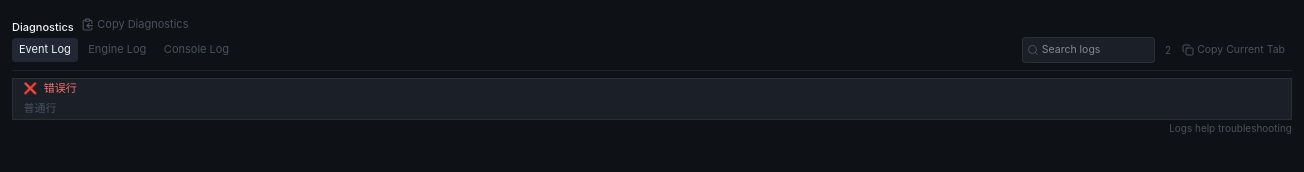
Scenario: DiagnosticsModal 组件 › 复制当前标签页按钮 → execCommand copy + 状态提示
标签页栏「复制当前标签页」按钮（Copy 图标 + 文字；header 只留复制诊断信息主按钮）
Step 1. Click the button with class "diag-tab-btn--copy" → coordinates (1233, 50), box [1175, 38, 1292, 62]
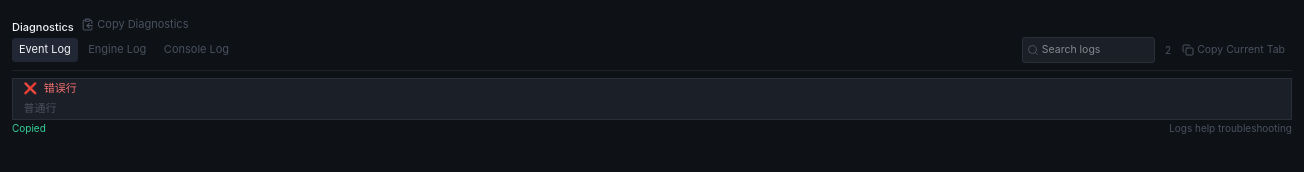
Now the text with class "diag-footer-status" reads "Copied", box [12, 122, 46, 134]
